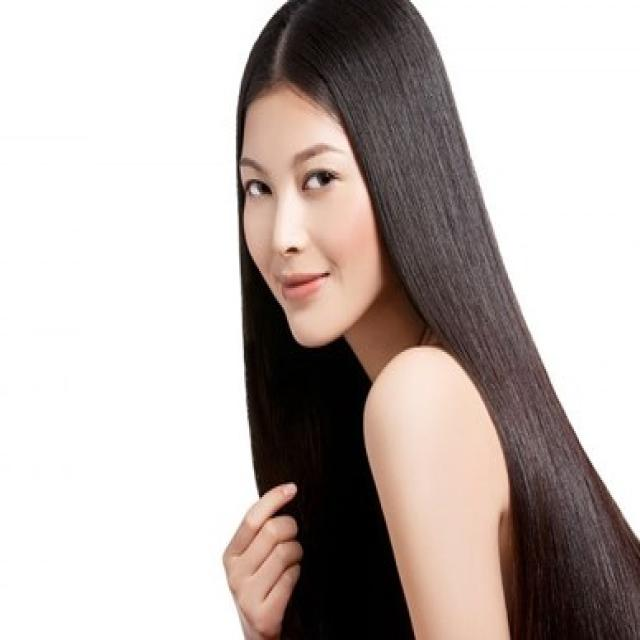Nonhelmet: (215, 4, 507, 362)
